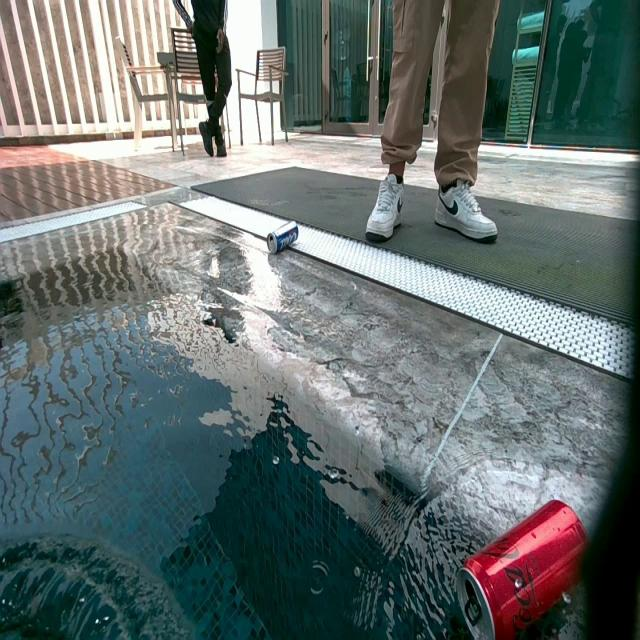Cans: (453, 499, 588, 640), (265, 220, 299, 254)
